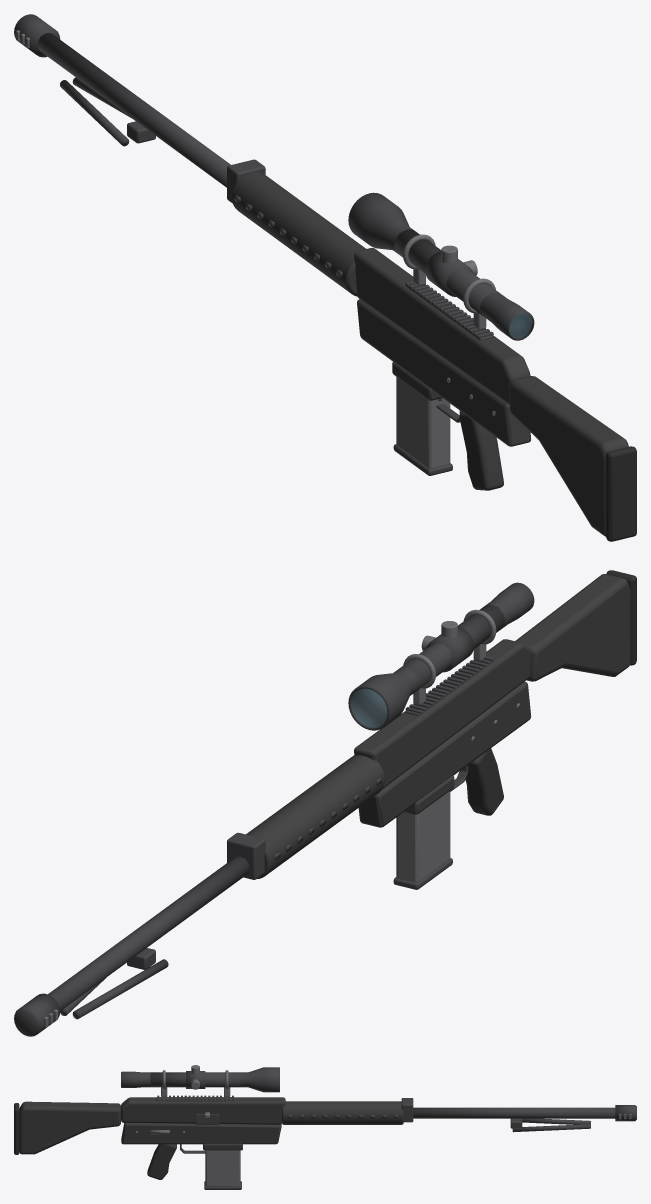
The model's file is w_barrett.glb.
3 renders of one model, top to bottom at view 1: azimuth 30°, elevation 25°; view 2: azimuth 150°, elevation 25°; view 3: azimuth 270°, elevation 25°, orthographic. The views are drawn at different scales.
Visible parts, largest first — view 1: body, mag; view 2: body, mag; view 3: body, mag.
Boxes of the visible parts, x1,y1,x2,y2 form: body: (14,14,636,541); mag: (393,377,452,475); body: (14,570,636,1036); mag: (393,791,452,889); body: (14,1065,636,1179); mag: (204,1150,241,1189).
Bounding box in the file's own units: 0.067 × 0.3095 × 1.45.
